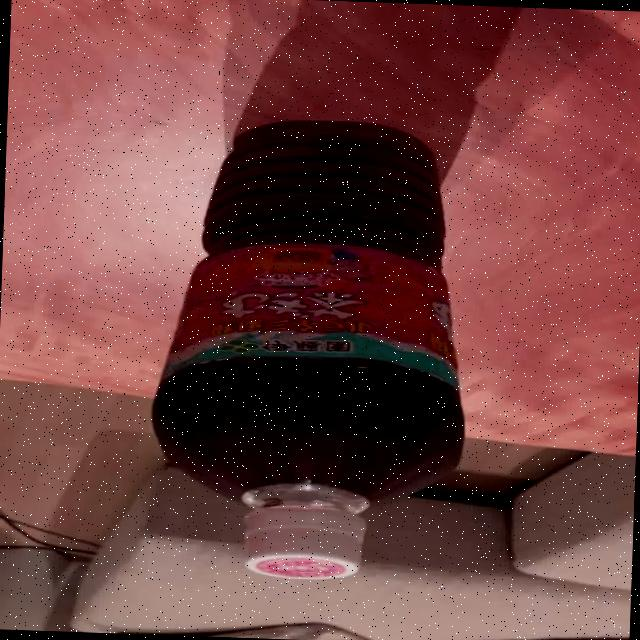bottle: (142, 114, 476, 588)
cap: (241, 496, 372, 584)
label: (136, 238, 474, 379)
